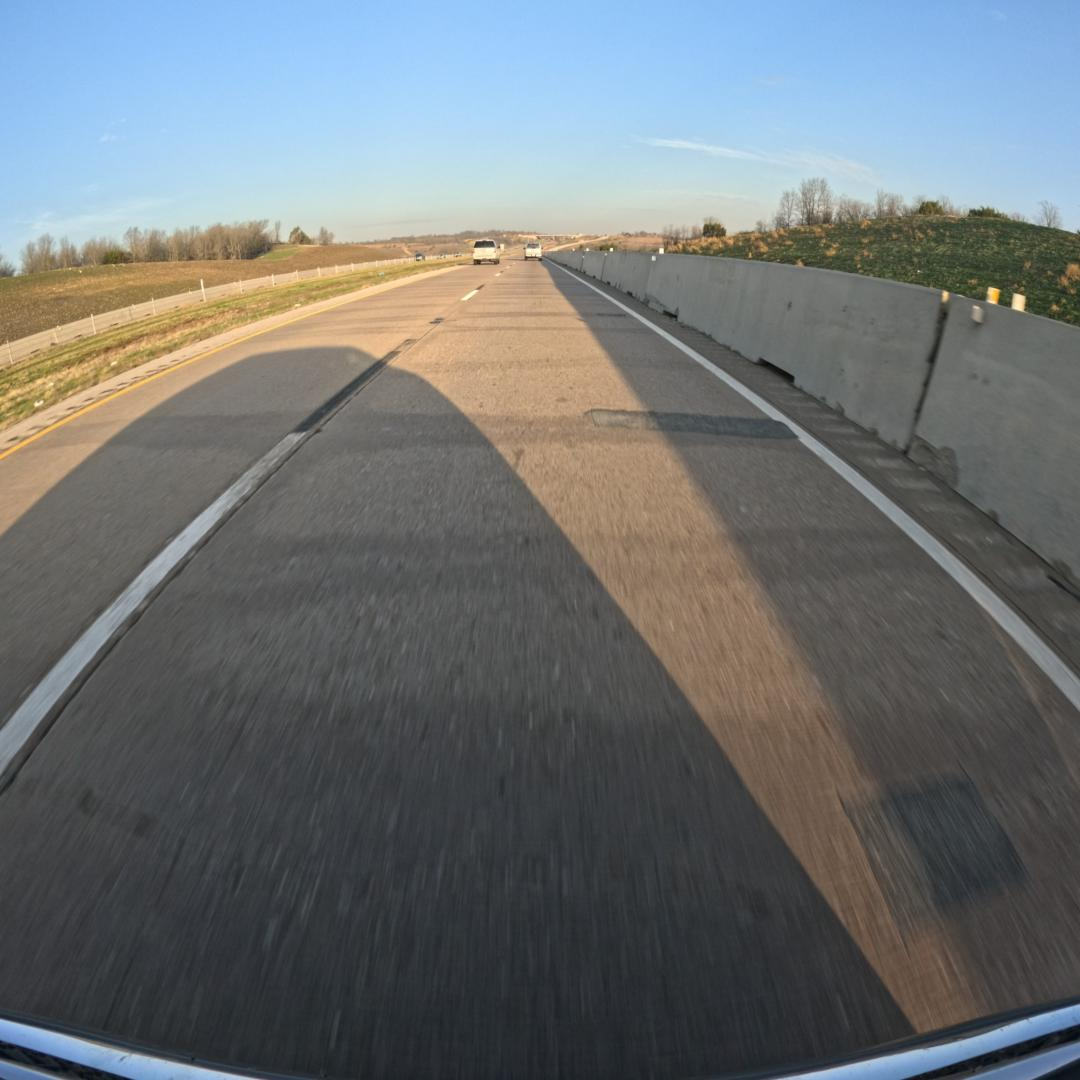lane0: (0, 262, 1080, 1077)
